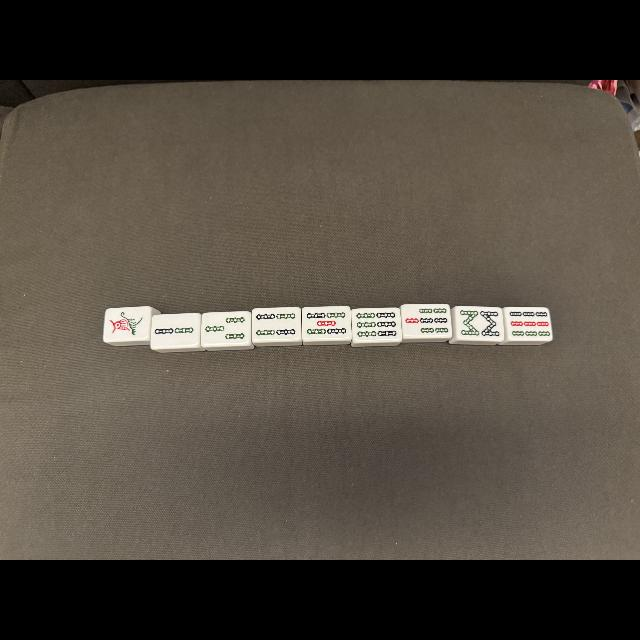b1: (105, 308, 148, 340)
b2: (152, 314, 198, 346)
b3: (202, 312, 250, 346)
b4: (252, 308, 300, 342)
b5: (304, 308, 351, 340)
b6: (352, 308, 402, 342)
b7: (403, 304, 451, 338)
b8: (455, 308, 503, 340)
b9: (505, 307, 551, 341)
